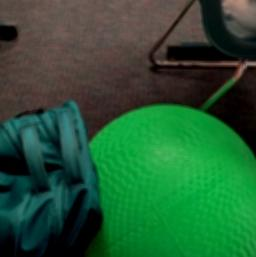algae: (81, 104, 256, 257)
